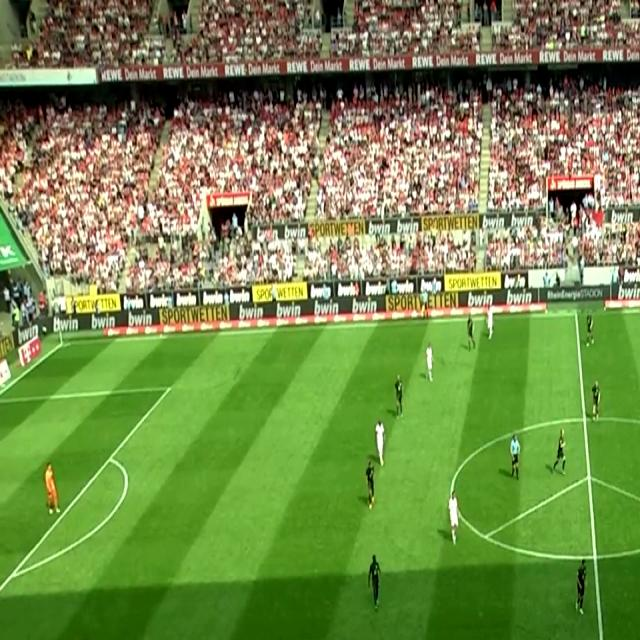goalkeeper: (41, 448, 62, 521)
referee: (508, 430, 521, 484)
soccer-player: (366, 546, 387, 618), (576, 547, 592, 621), (447, 488, 464, 546), (583, 304, 598, 355), (375, 410, 388, 466), (422, 336, 437, 381), (363, 461, 378, 505), (553, 430, 567, 474), (392, 376, 405, 422), (485, 302, 499, 341), (590, 375, 601, 422), (466, 310, 476, 347)
